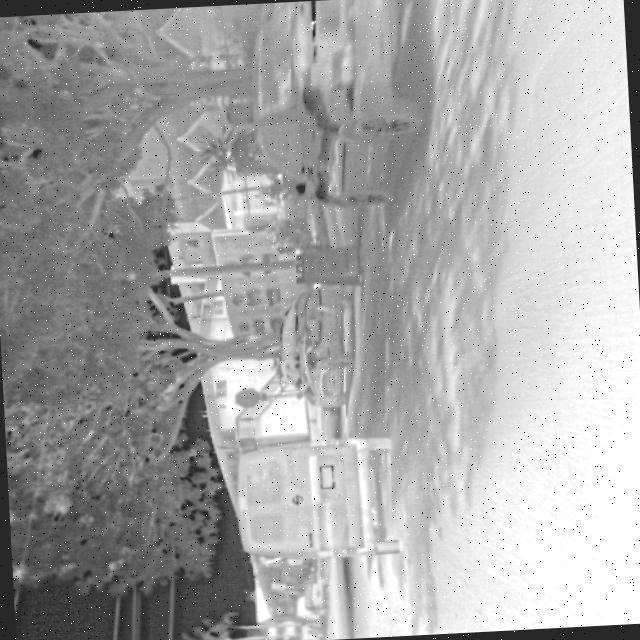Vehicle: (242, 0, 429, 214), (230, 432, 400, 565), (272, 280, 362, 411)
